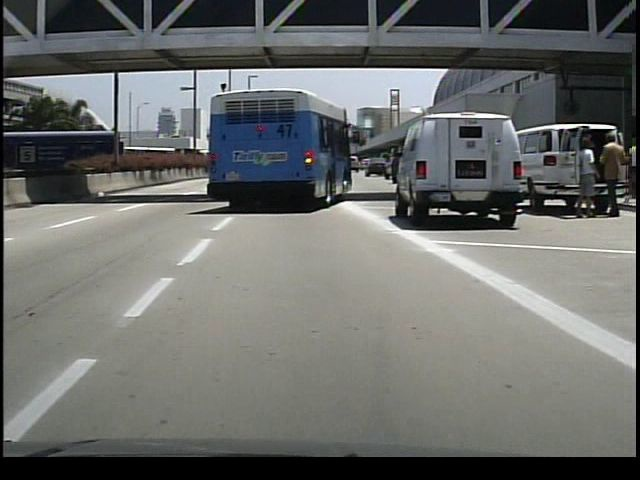person: (593, 130, 624, 220), (570, 134, 594, 219)
